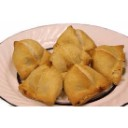samosa: (65, 60, 112, 102), (21, 61, 63, 104), (9, 36, 51, 76), (89, 44, 127, 86), (49, 39, 94, 69), (57, 24, 96, 57)
